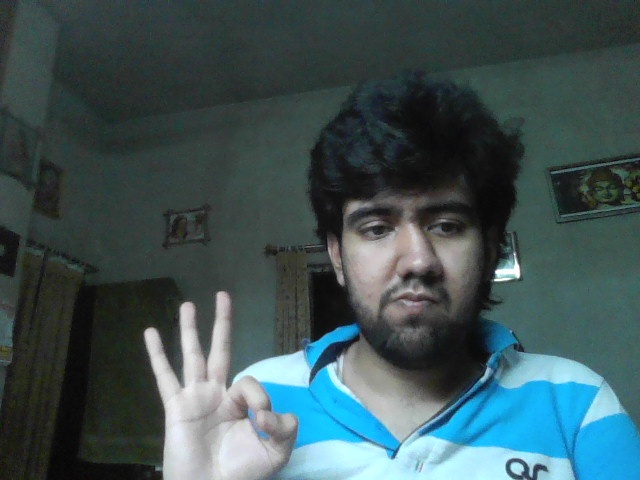Nice: (144, 290, 297, 479)
